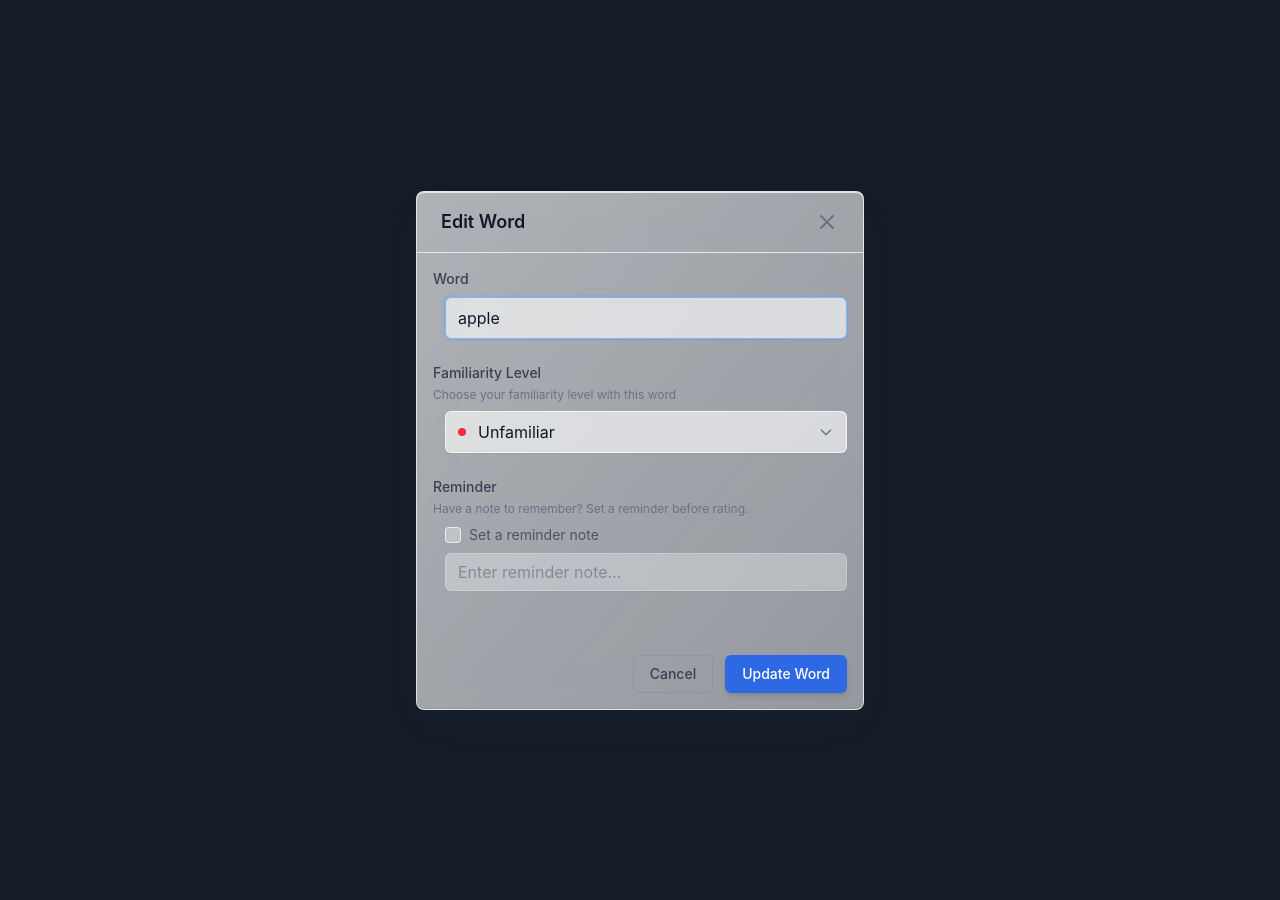
WordFormModal › toggles the reminder checkbox
Expected: the field with placeholder "Enter reminder note..." is disabled, [445,552,847,590]
Click the checkbox. click: (453, 534)
box: [445,526,461,542]
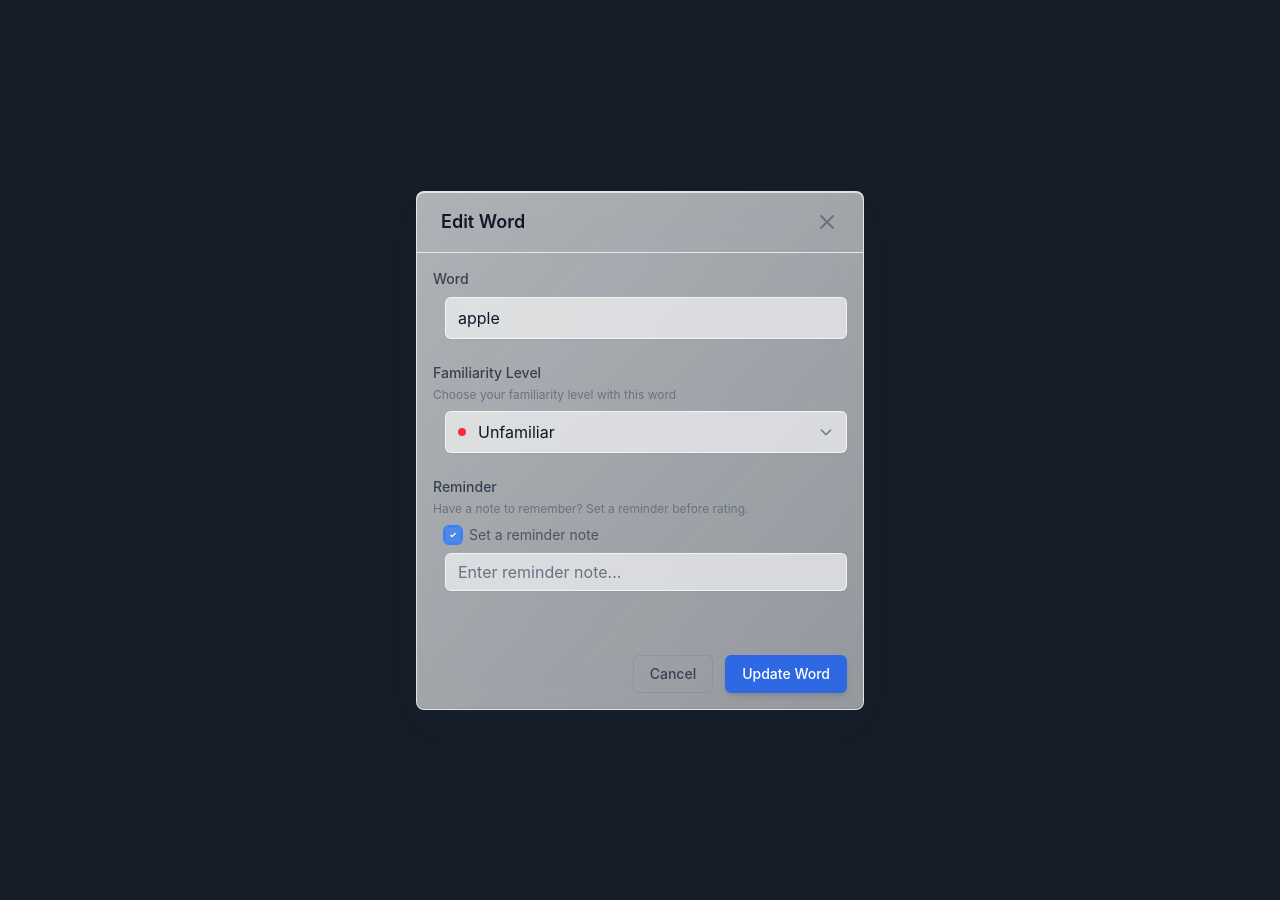
Result: the checkbox is checked at [445,526,461,542]
Result: the field with placeholder "Enter reminder note..." is enabled at [445,552,847,590]
